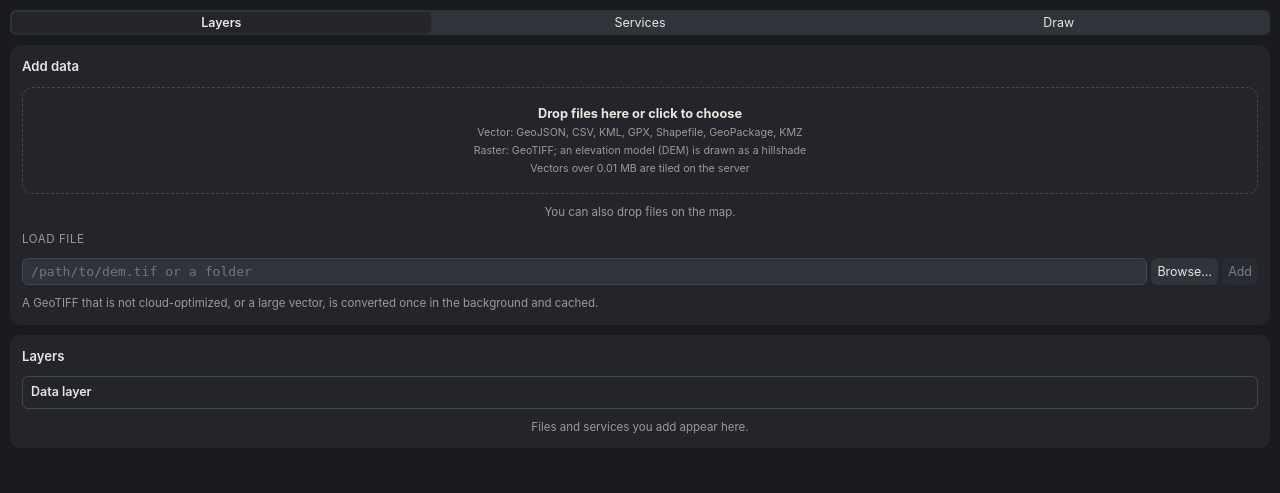
Scenario: Load file: browse a server folder › a path that is neither a file nor a folder still shows why
Type "/nope.tif" into the field named "File path on the server" at {"x": 585, "y": 272}, box [22,258,1147,285]
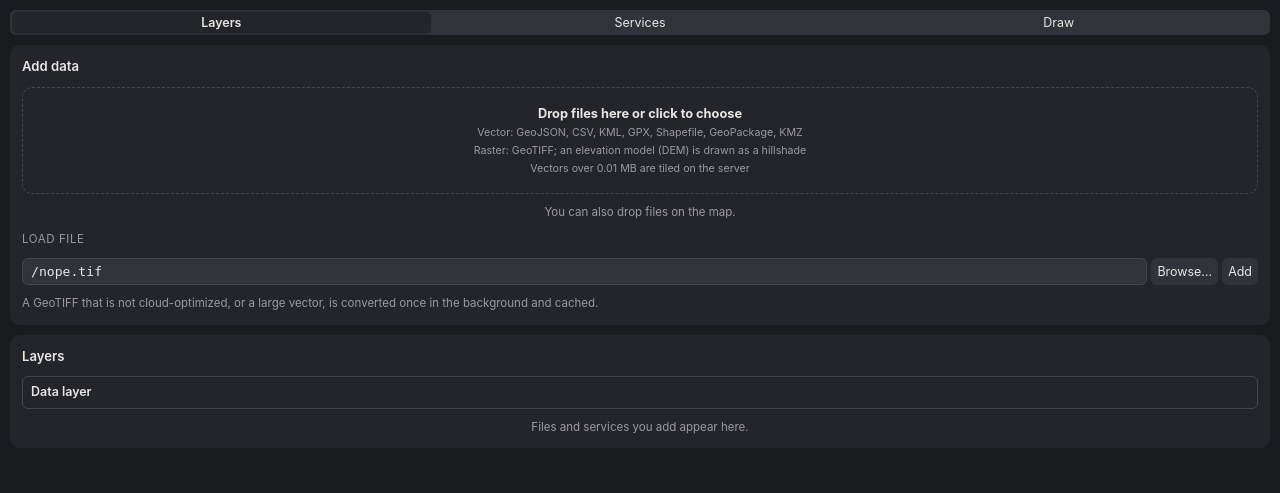
Press Enter in the field named "File path on the server", box [22,258,1147,285]
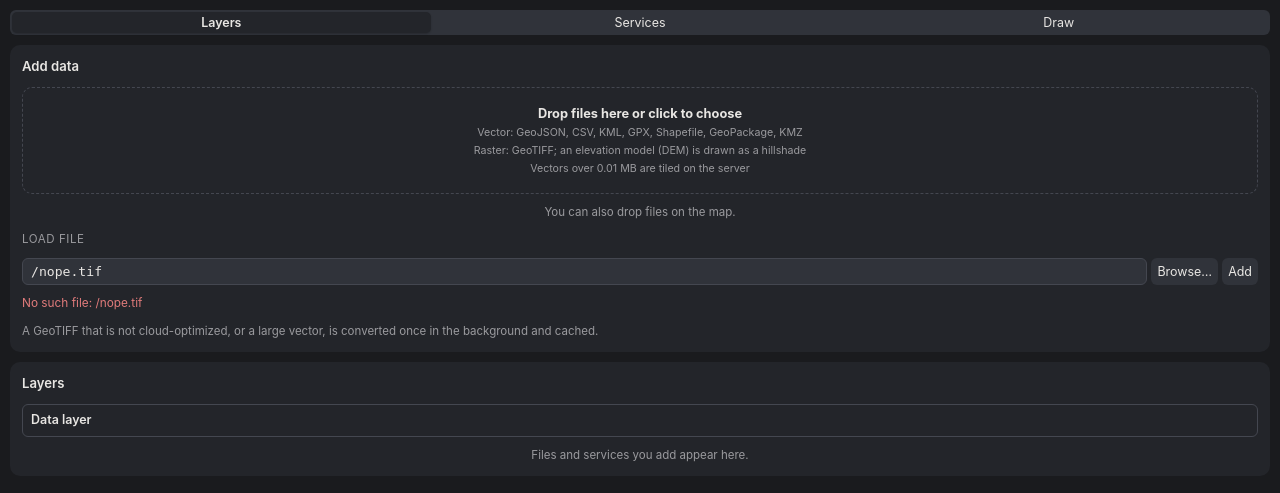
Check: the text "No such file: /nope.tif" is shown, box [22,296,142,310]
